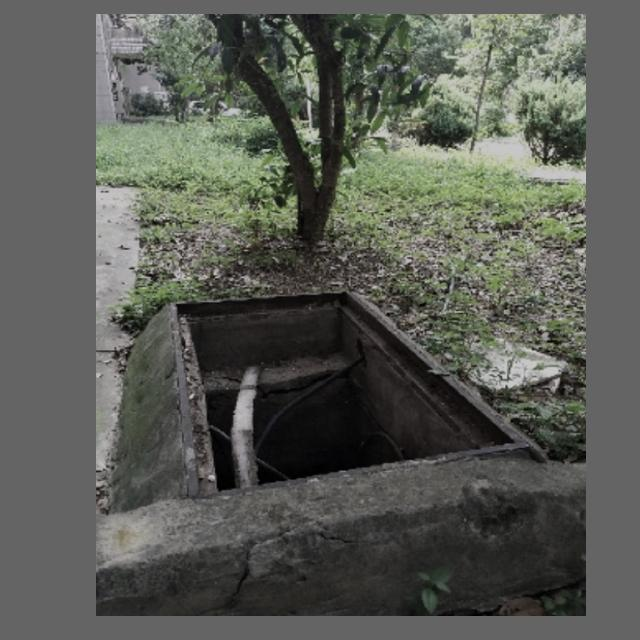lose: (168, 288, 547, 498)
